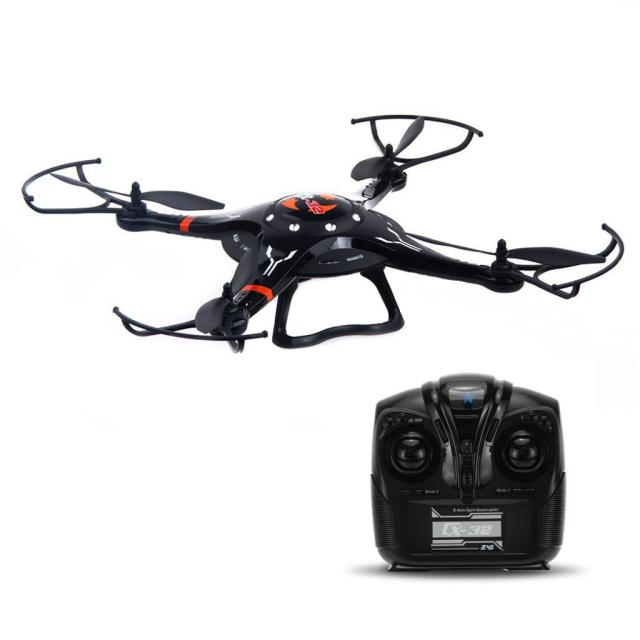drone: (8, 107, 633, 372)
